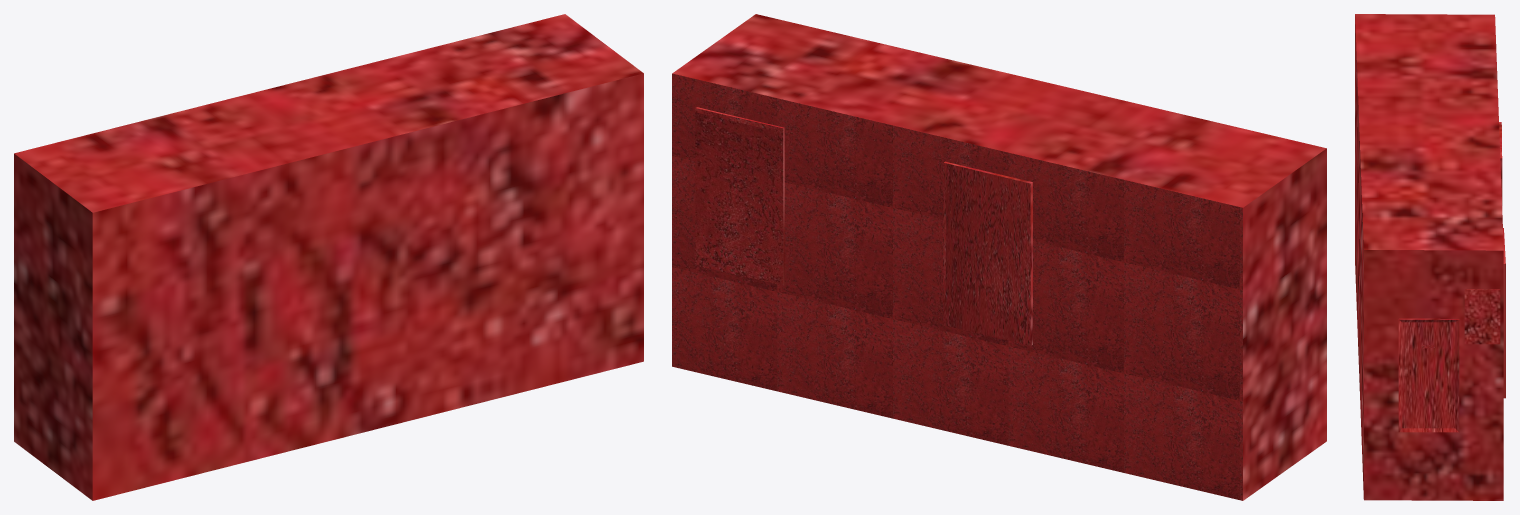
File: behind_bar_block.fbx
The picture shows the model from 3 angles, left to right: view 1: azimuth 30°, elevation 25°; view 2: azimuth 150°, elevation 25°; view 3: azimuth 270°, elevation 25°; orthographic projection. The views are drawn at different scales.
Visible parts, largest first — view 1: behind_bar_block; view 2: behind_bar_block; view 3: behind_bar_block.
Part boxes in pixels (x1,y1,x2,y2): behind_bar_block: (14,14,643,500); behind_bar_block: (672,14,1326,500); behind_bar_block: (1355,14,1505,500).
Bounding box in the file's own units: 11.09 × 5.46 × 2.98.
Materials: 1 (1 with a texture image).
